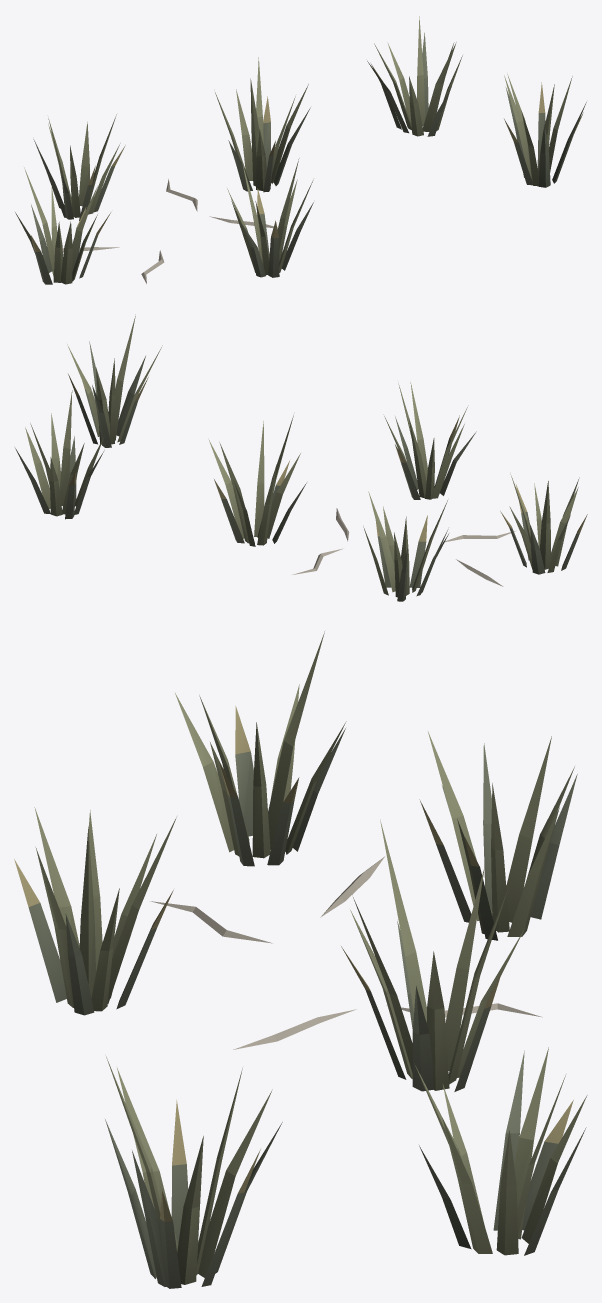
File: reeds.glb
3 renders of one model, top to bottom at view 1: azimuth 30°, elevation 25°; view 2: azimuth 150°, elevation 25°; view 3: azimuth 270°, elevation 25°, orthographic. The views are drawn at different scales.
Parts seen in each view (by area): view 1: reeds; view 2: reeds; view 3: reeds.
Boxes of the visible parts, <box> form: reeds: <box>15,16,586,284</box>; reeds: <box>15,314,587,601</box>; reeds: <box>14,631,587,1288</box>.
Size of the model in its own units: 4.27 by 0.9519 by 2.09.
